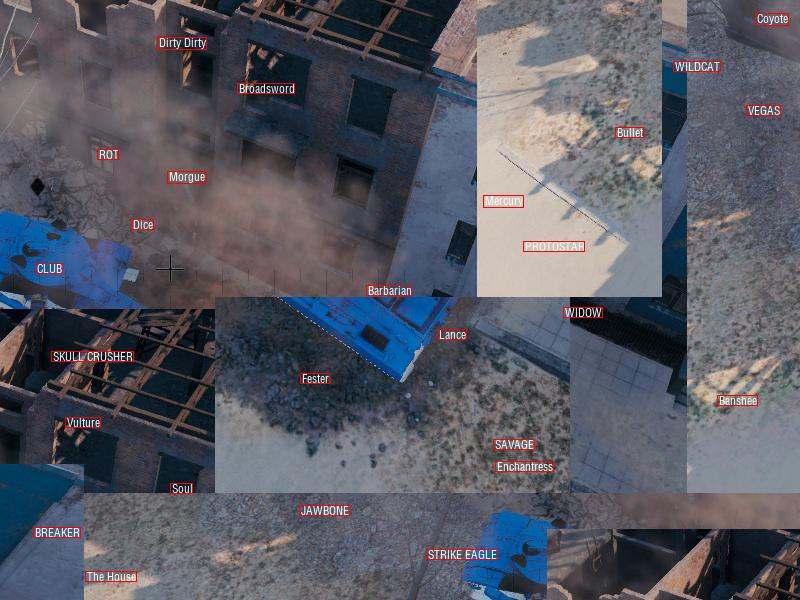line: (52, 352, 132, 360), (427, 550, 496, 558), (524, 242, 583, 250), (158, 38, 205, 48), (496, 462, 552, 470), (238, 84, 293, 92), (86, 572, 135, 580), (300, 506, 348, 514), (484, 196, 522, 206), (674, 62, 719, 70), (168, 172, 204, 182), (34, 528, 79, 536), (367, 286, 410, 294), (494, 440, 533, 448), (756, 14, 787, 24), (718, 396, 756, 404), (564, 308, 601, 316), (66, 418, 99, 426), (747, 106, 779, 114), (438, 330, 465, 338), (301, 374, 328, 382), (616, 128, 642, 136), (36, 264, 61, 272), (132, 220, 152, 228), (171, 484, 191, 492), (98, 150, 117, 158)
